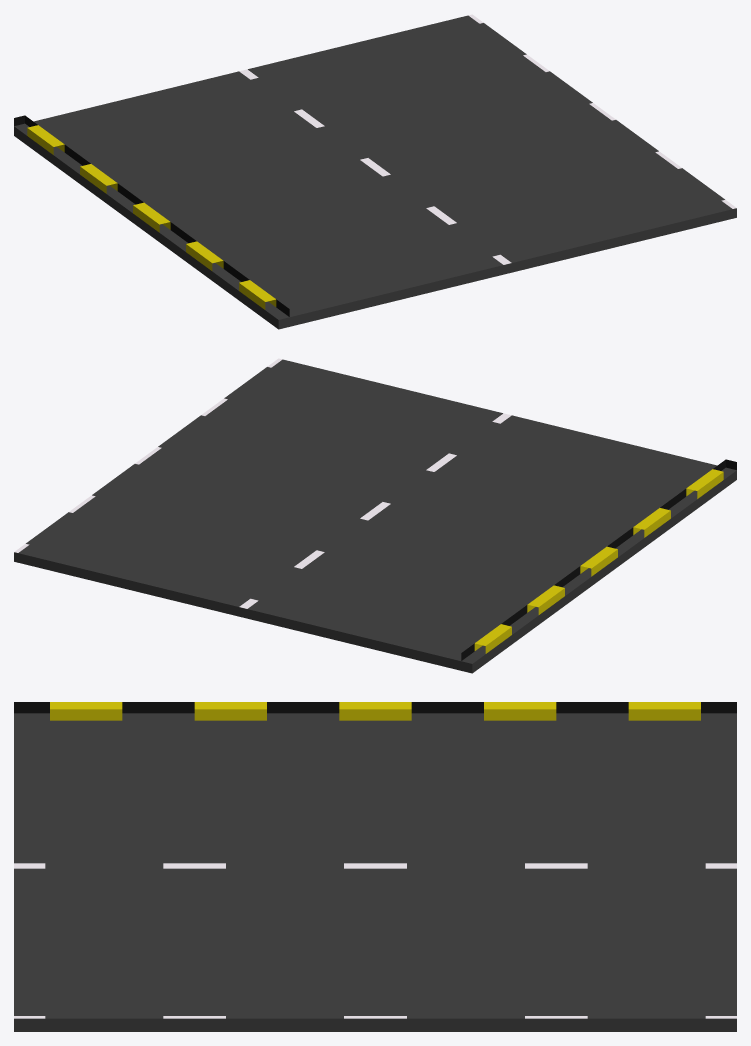
Rendered from major_road_straight_edge.glb.
3 renders of one model, top to bottom at view 1: azimuth 30°, elevation 25°; view 2: azimuth 150°, elevation 25°; view 3: azimuth 270°, elevation 25°, orthographic. The views are drawn at different scales.
Parts seen in each view (by area): view 1: MajorStraightEdge; view 2: MajorStraightEdge; view 3: MajorStraightEdge.
Part boxes in pixels (x1,y1,x2,y2): MajorStraightEdge: (14, 14, 736, 329); MajorStraightEdge: (14, 358, 736, 673); MajorStraightEdge: (14, 702, 736, 1031).
Size of the model in its own units: 2 by 0.0741 by 2.
